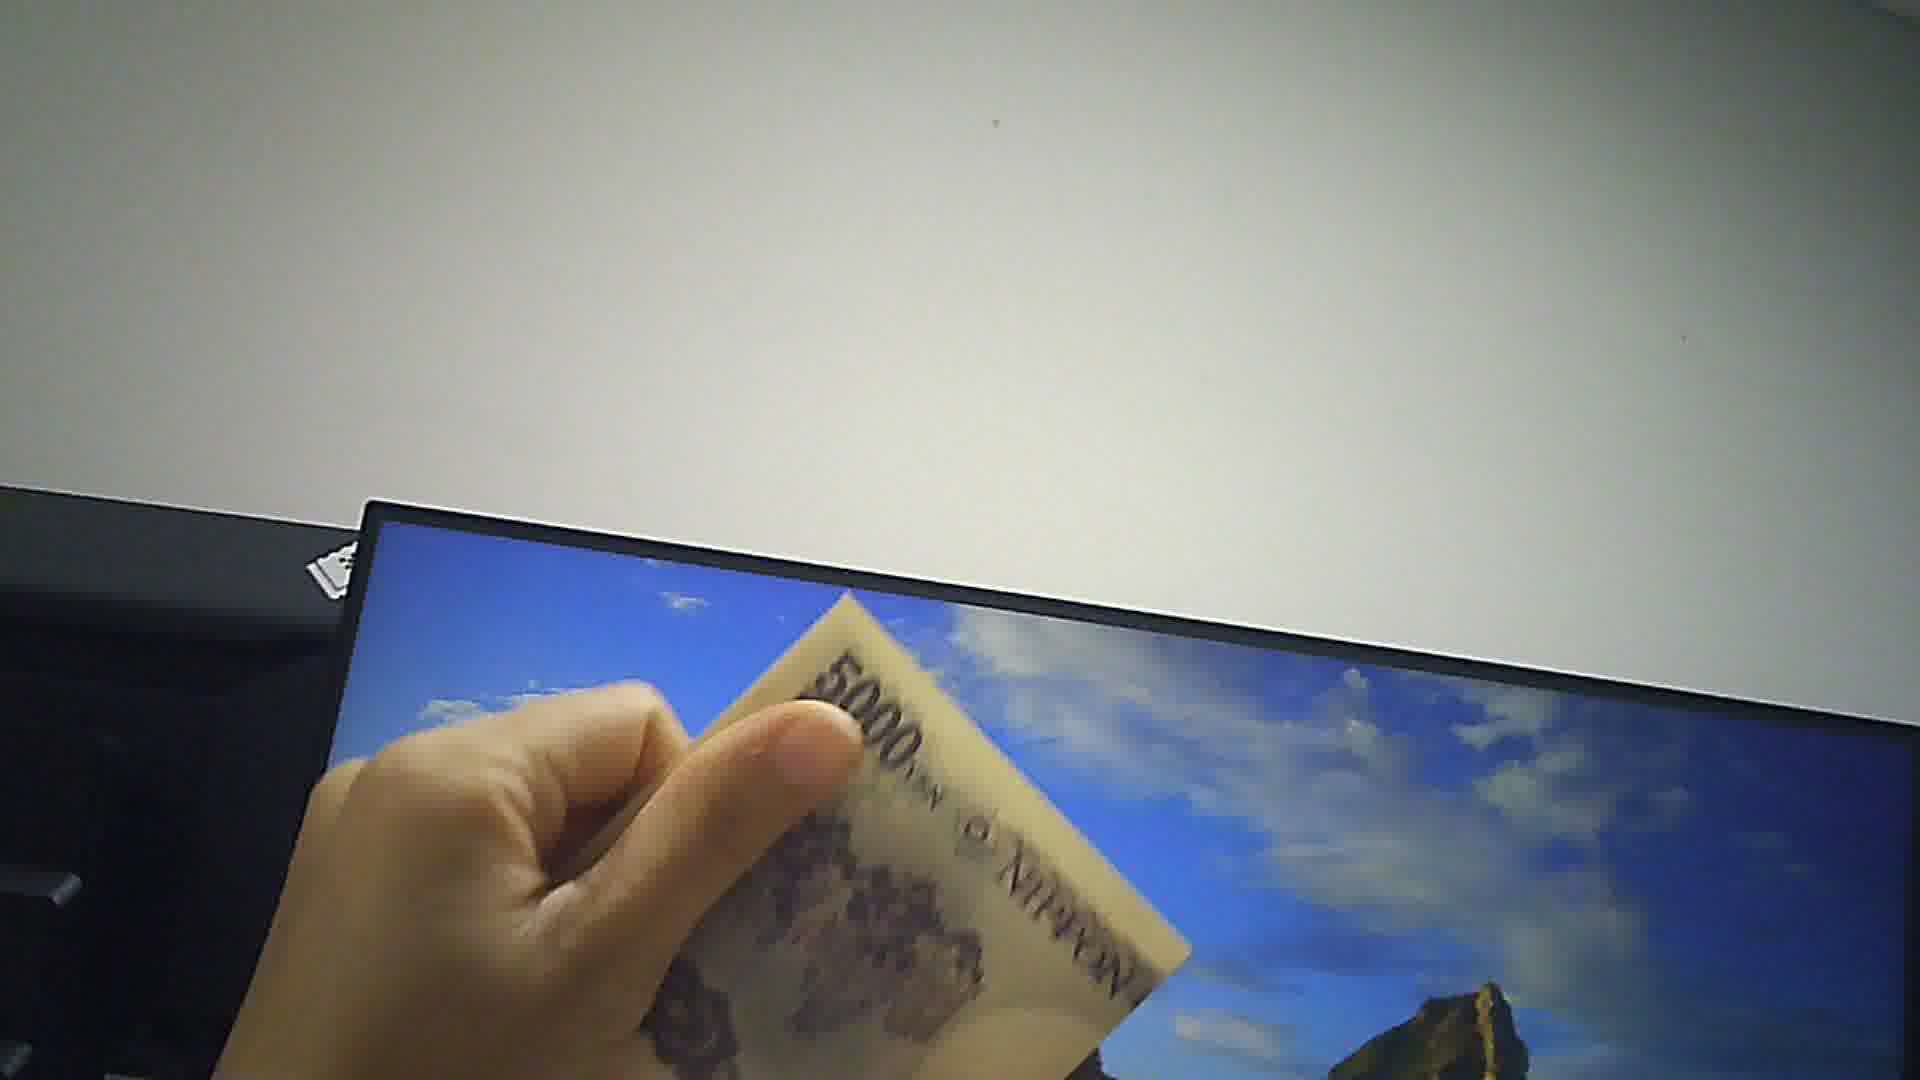5,000 Yen: (550, 597, 1196, 1079)
